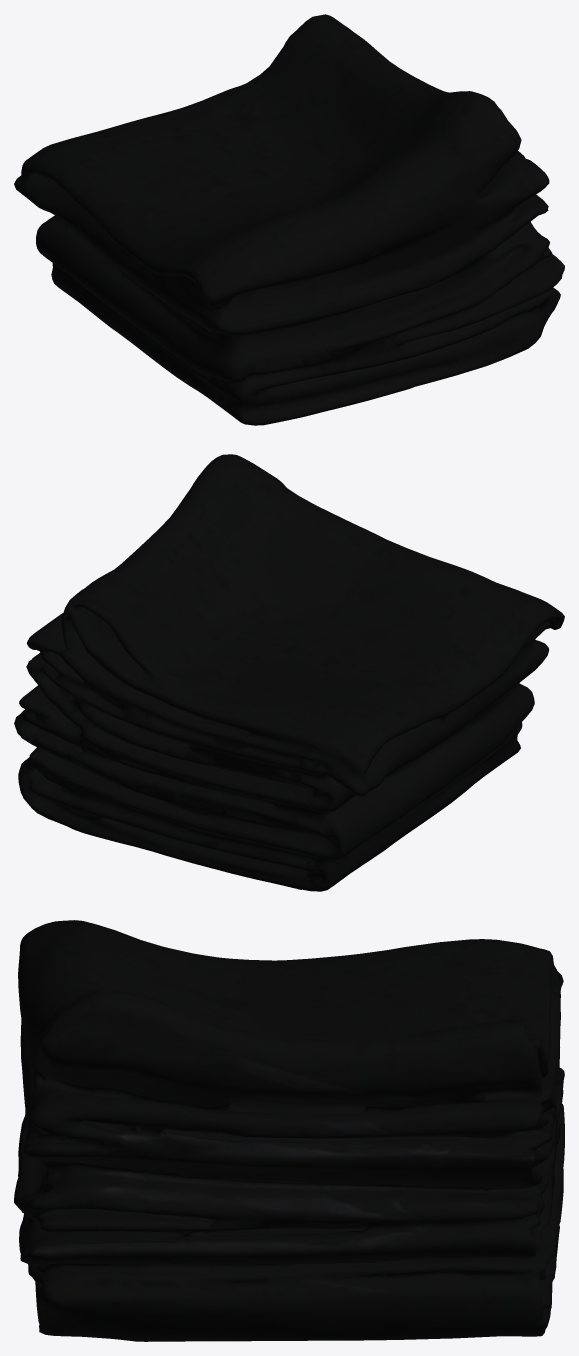
Rendered from black_thin_folded_clo_1108183856_refine.fbx.
3 views of the same model, one above another, from view 1: azimuth 30°, elevation 25°; view 2: azimuth 150°, elevation 25°; view 3: azimuth 270°, elevation 25° (orthographic). The views are drawn at different scales.
Visible parts, largest first — view 1: Mesh_0; view 2: Mesh_0; view 3: Mesh_0.
Part boxes in pixels (bbox=[...]): Mesh_0: bbox=[14, 14, 564, 425]; Mesh_0: bbox=[14, 454, 564, 891]; Mesh_0: bbox=[14, 920, 564, 1341].
Size of the model in its own units: 200 by 131 by 193.
1 material, 1 textured.
